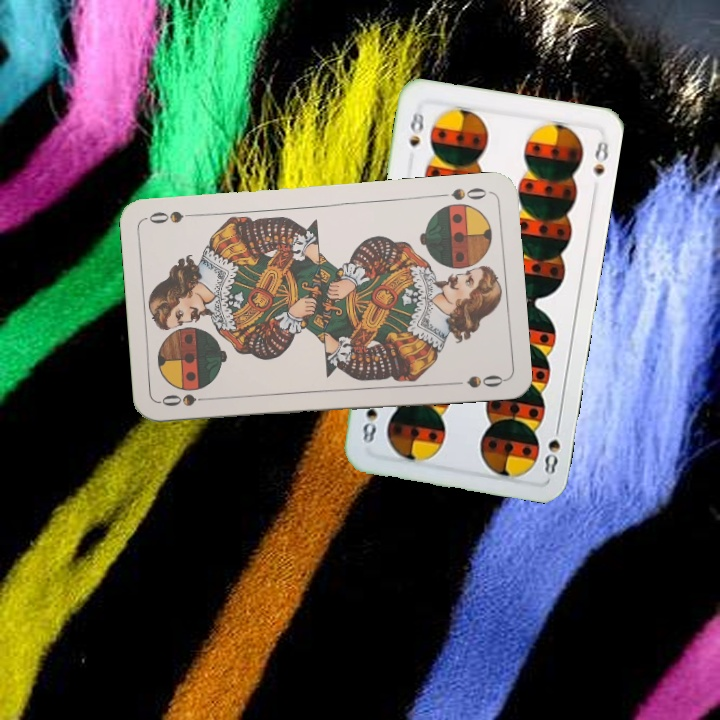S8: (540, 419, 563, 478), (405, 107, 427, 149)
SO: (157, 390, 217, 409), (433, 184, 492, 203)
